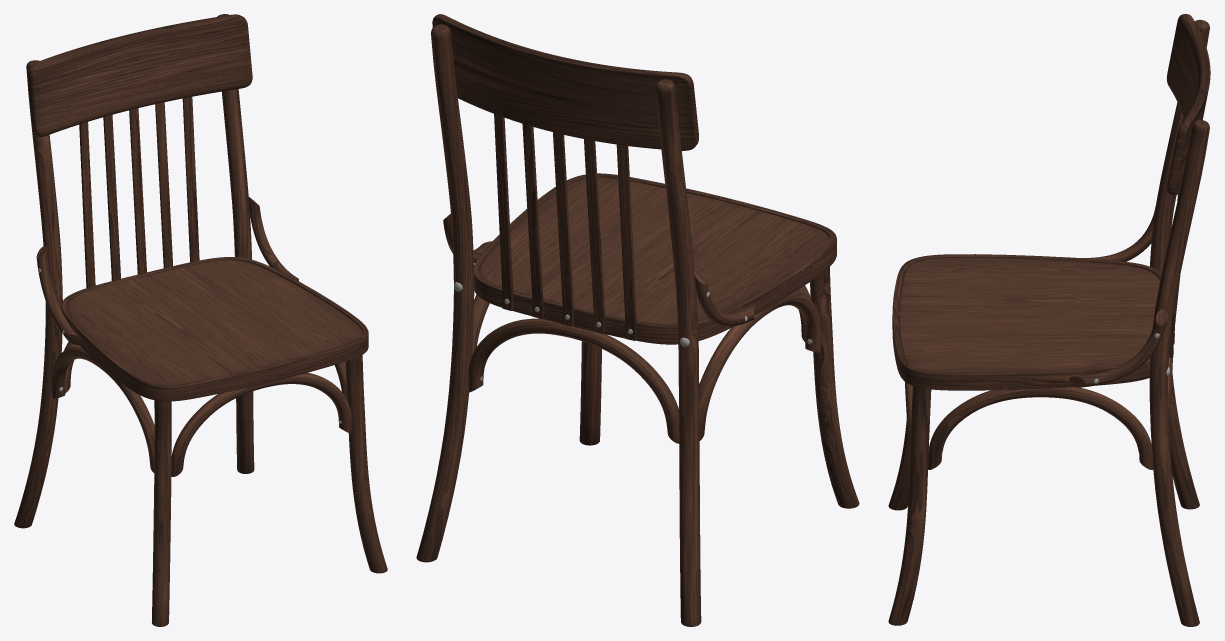
File: cadeira-escolar-68.glb
The picture shows the model from 3 angles, left to right: view 1: azimuth 30°, elevation 25°; view 2: azimuth 150°, elevation 25°; view 3: azimuth 270°, elevation 25°; orthographic projection. The views are drawn at different scales.
Parts seen in each view (by area): view 1: SM_WoodenChair; view 2: SM_WoodenChair; view 3: SM_WoodenChair.
Part boxes in pixels (x1,y1,x2,y2): SM_WoodenChair: (14,14,387,626); SM_WoodenChair: (416,14,859,626); SM_WoodenChair: (888,14,1210,626).
Size of the model in its own units: 0.5595 by 1.03 by 0.6073.
1 material, 1 textured.
